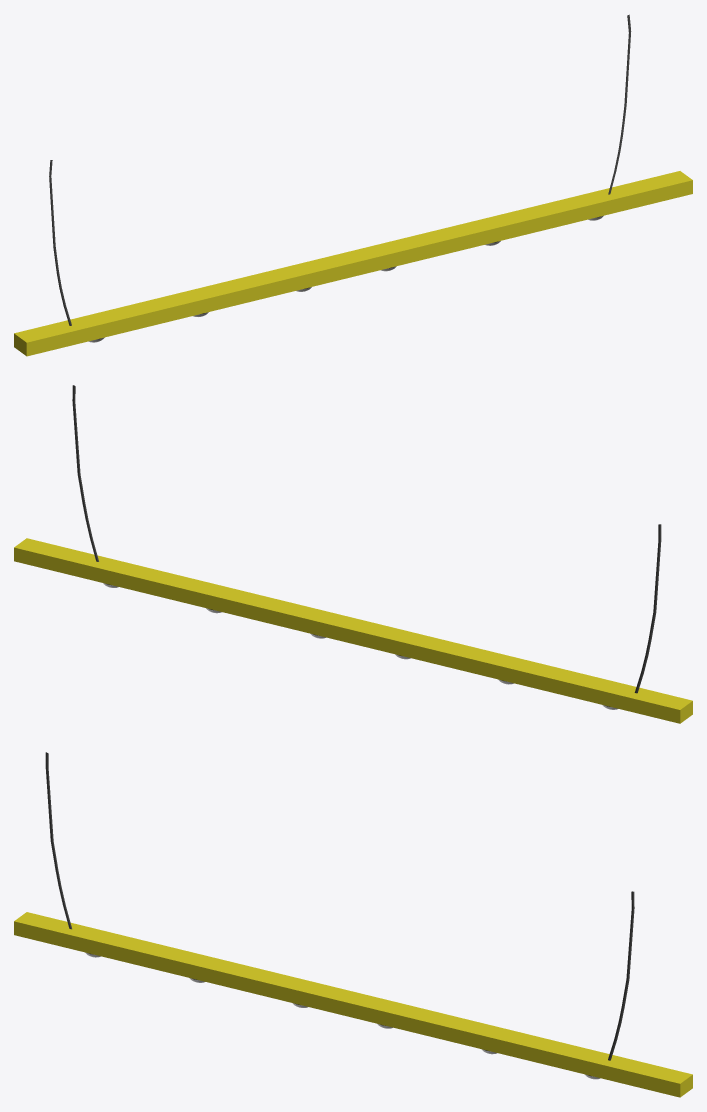
File: lightRail.fbx
3 renders of one model, top to bottom at view 1: azimuth 30°, elevation 25°; view 2: azimuth 150°, elevation 25°; view 3: azimuth 330°, elevation 25°, orthographic.
Visible parts, largest first — view 1: Object, LeftString; view 2: Object, LeftString, RightString; view 3: Object, RightString, LeftString.
Part boxes in pixels (box(x1,y1,x2,y2)): Object: box(14, 171, 692, 356); LeftString: box(608, 14, 631, 194); Object: box(14, 538, 692, 723); LeftString: box(72, 385, 98, 561); RightString: box(634, 524, 661, 693); Object: box(14, 912, 692, 1097); RightString: box(45, 752, 71, 929); LeftString: box(608, 891, 634, 1060).
Size of the model in its own units: 1212 by 338 by 40.37.
